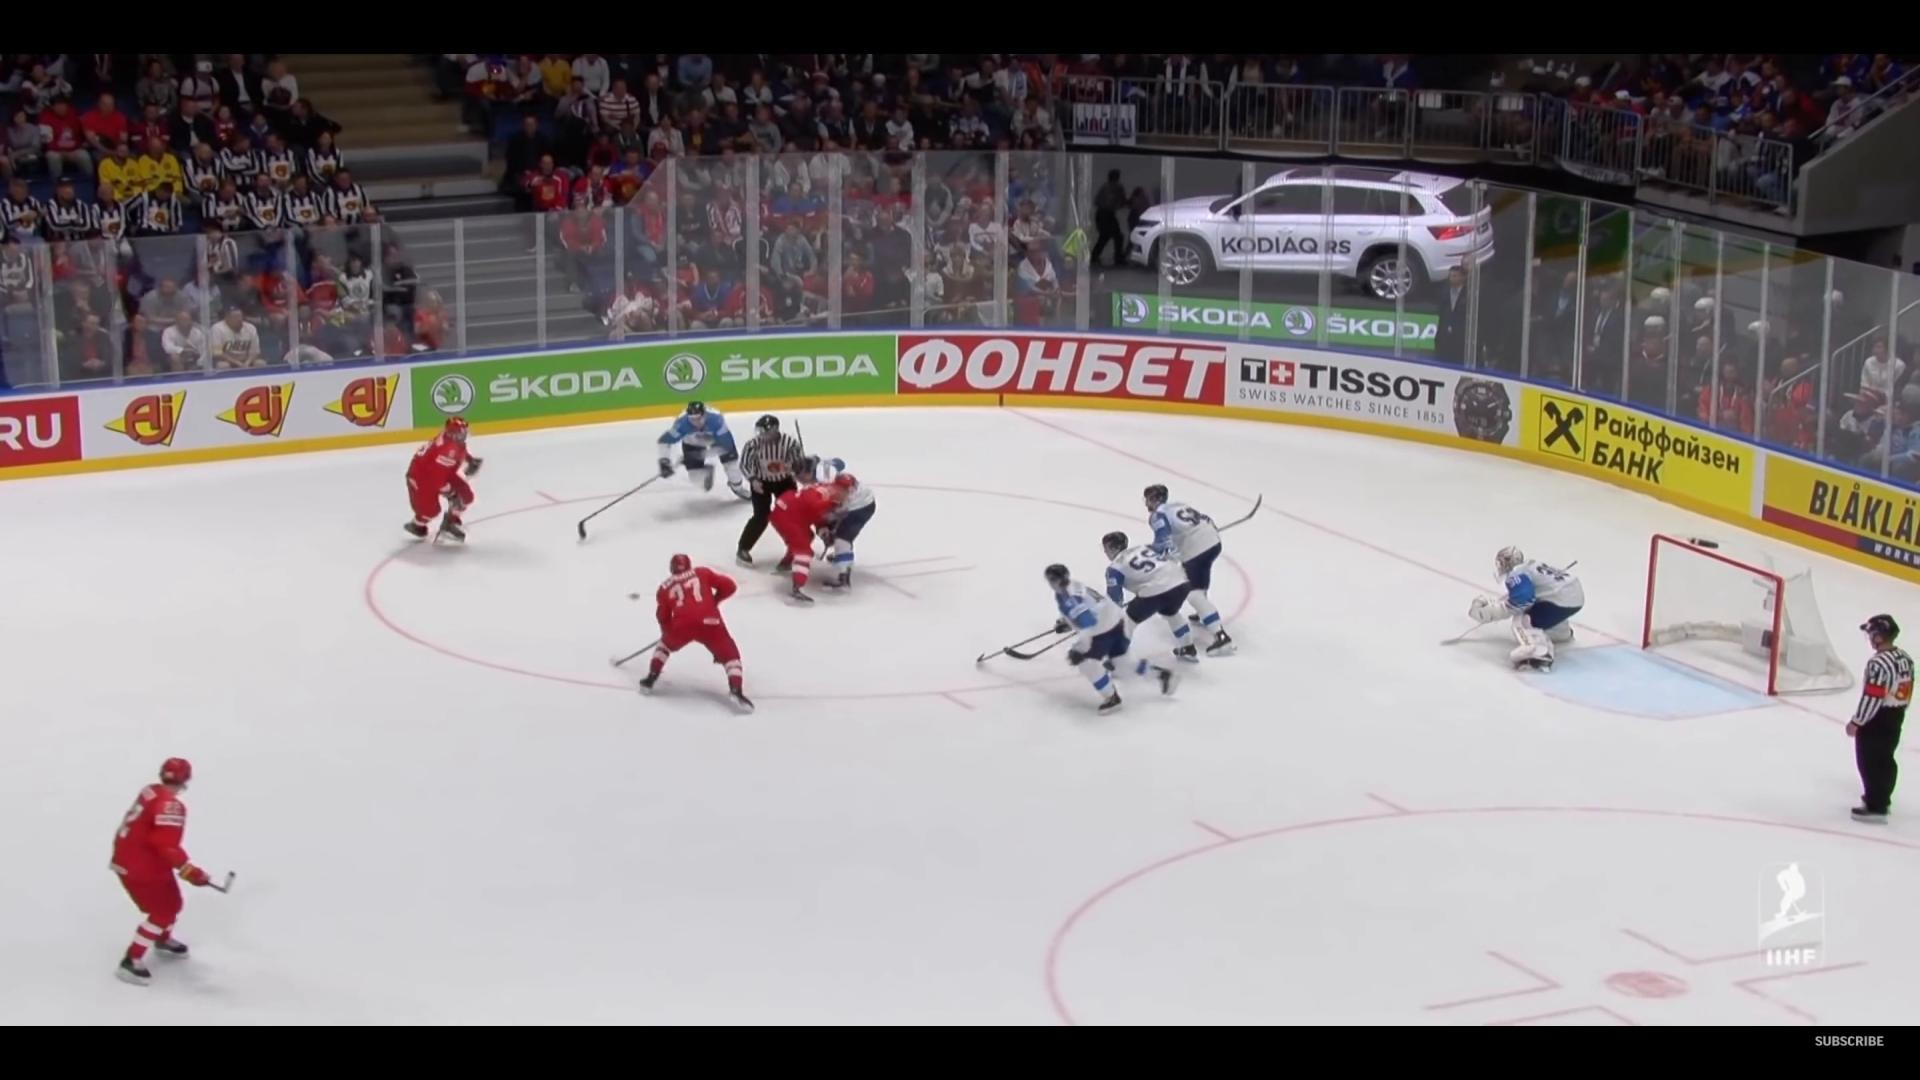puck: (630, 592, 638, 600)
